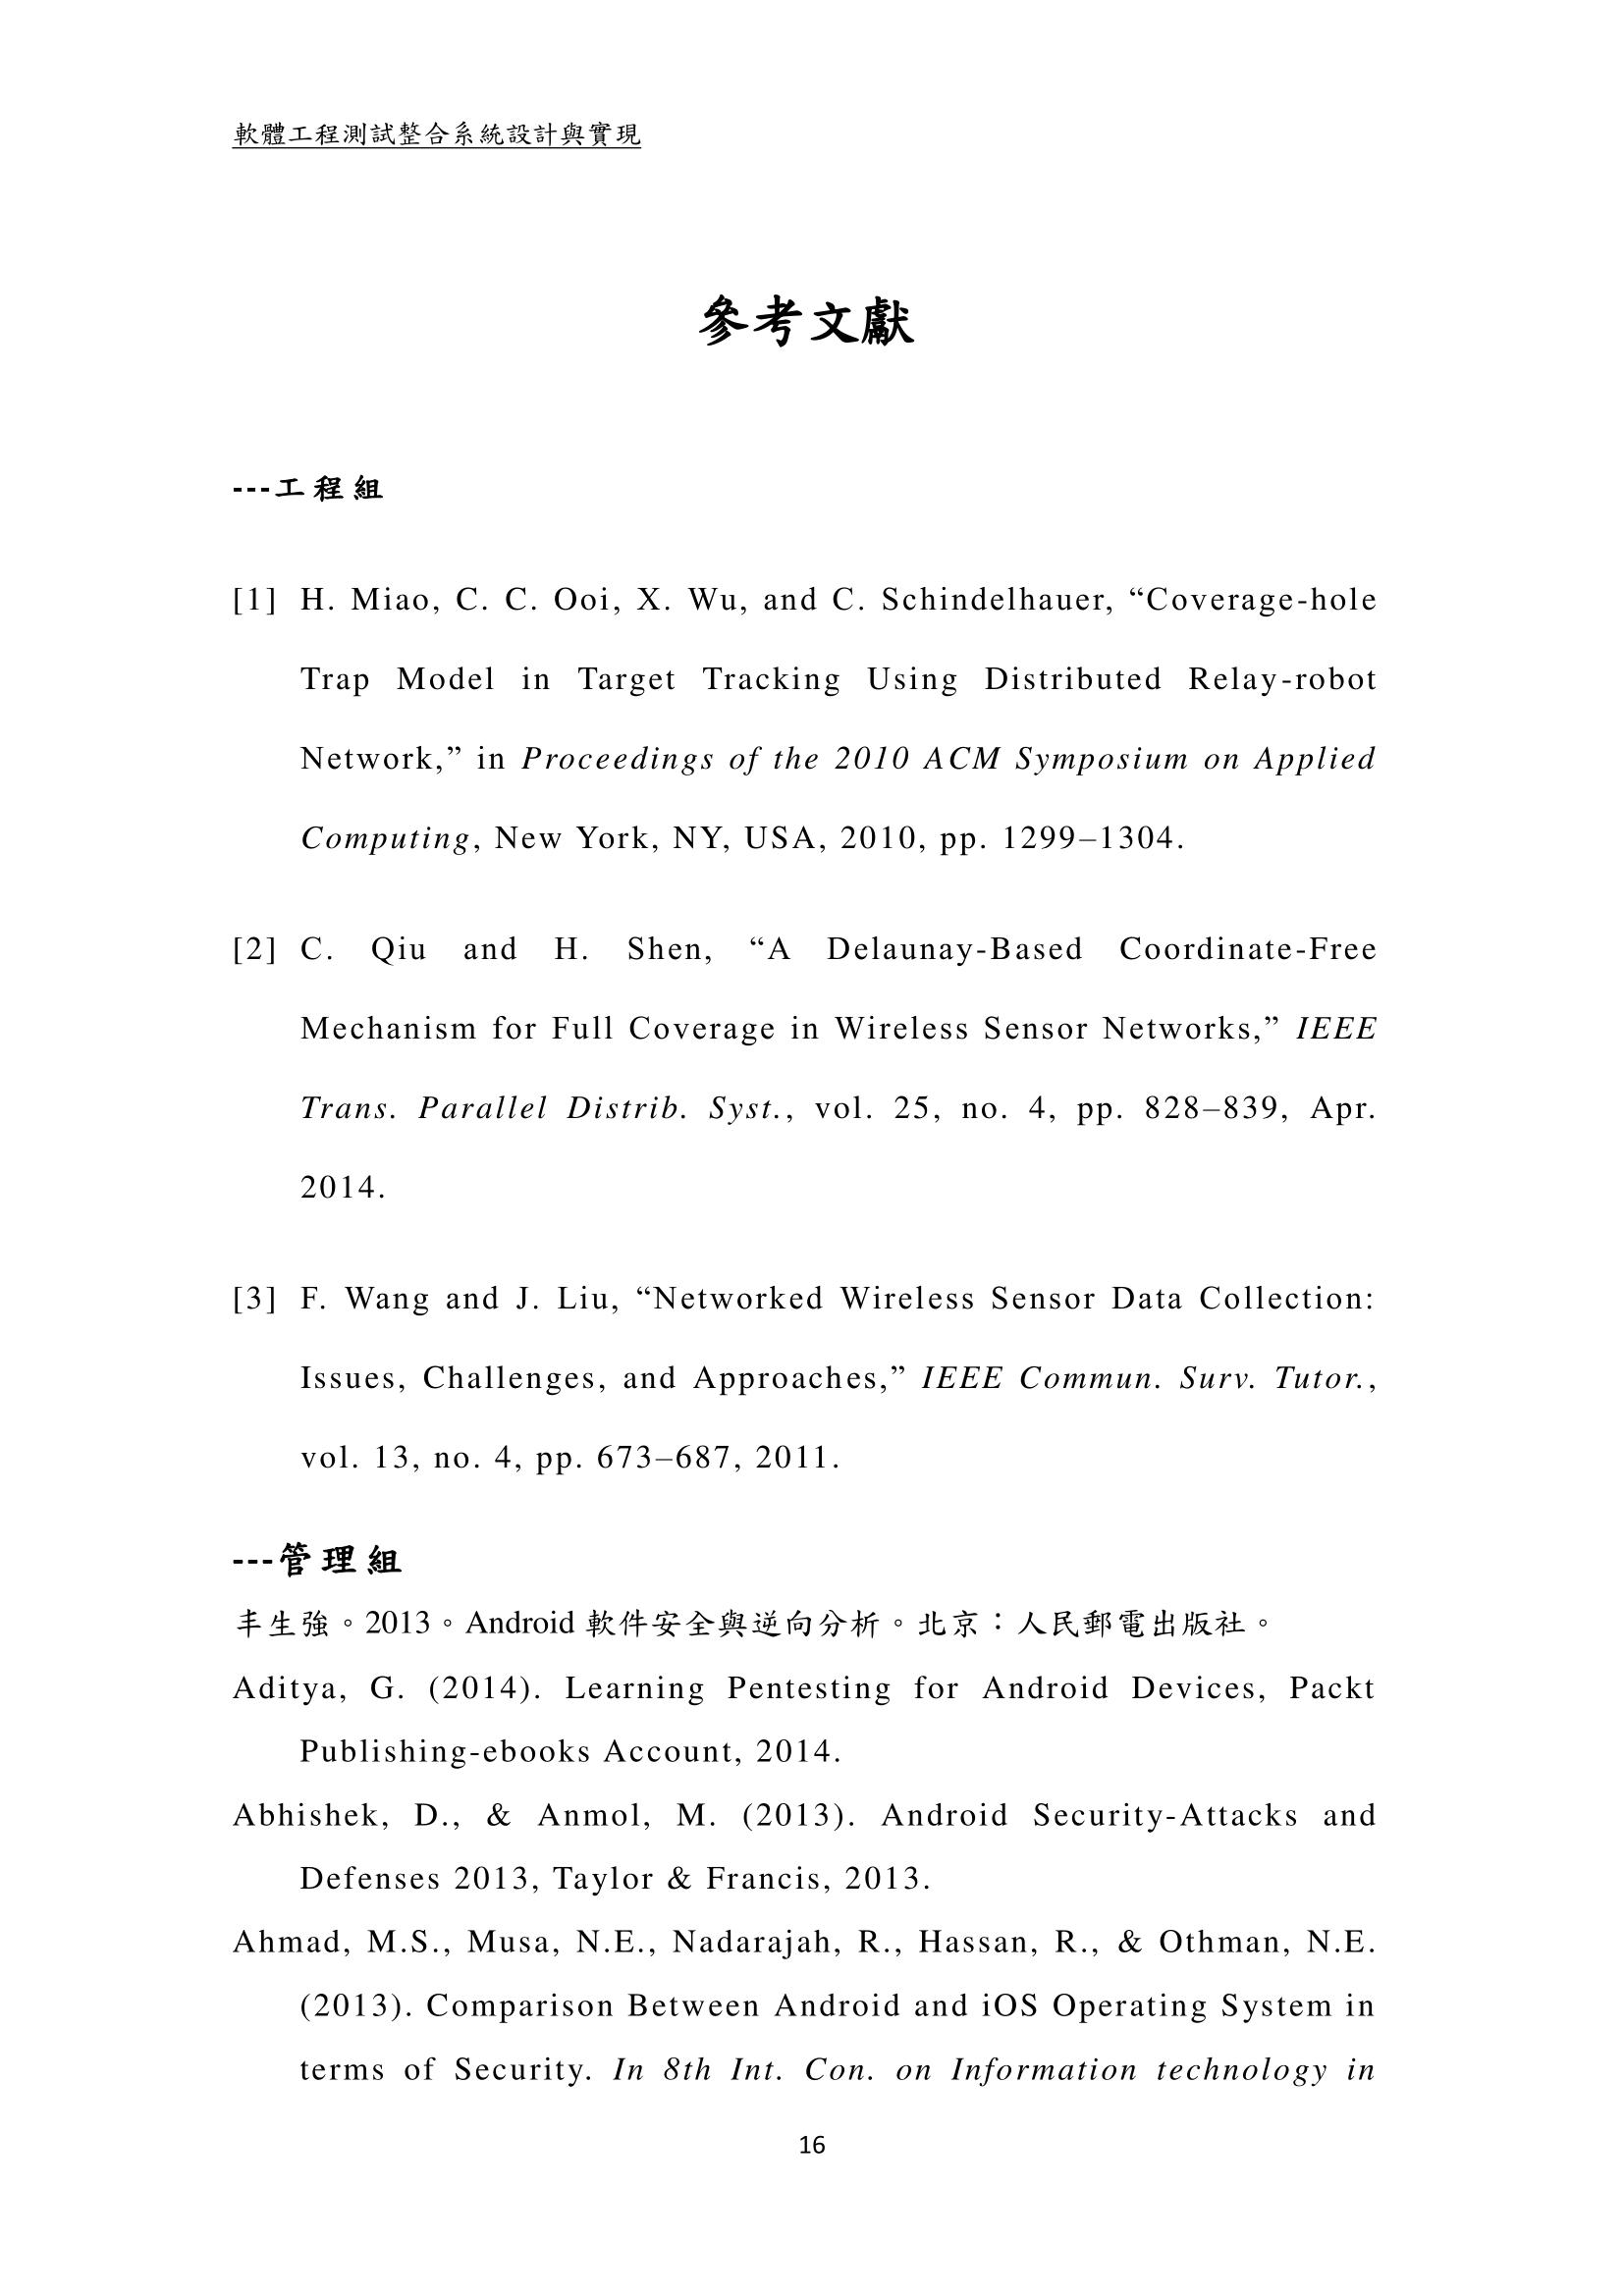text: (211, 569, 1388, 864), (216, 921, 1404, 1212), (216, 1272, 1399, 1481), (209, 1917, 1445, 2115), (221, 1660, 1432, 1774), (221, 1792, 1418, 1899), (209, 1602, 1292, 1648), (680, 276, 933, 376), (220, 460, 406, 527), (221, 1535, 427, 1583)
